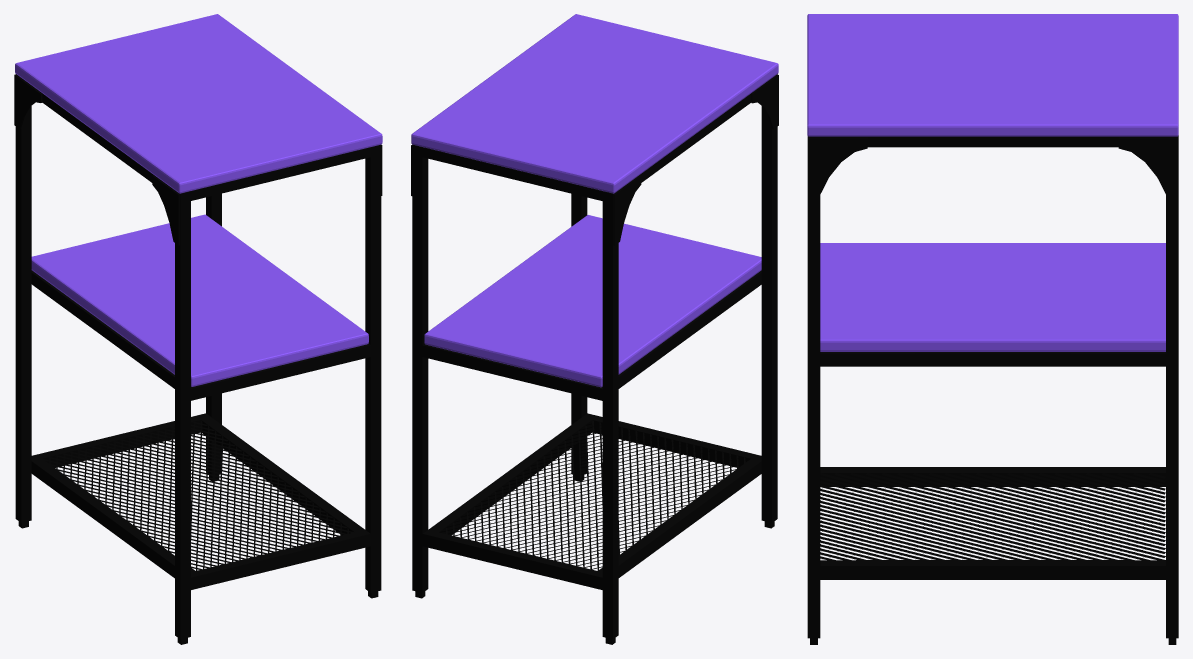
File: shelf.glb
3 renders of one model, left to right at view 1: azimuth 30°, elevation 25°; view 2: azimuth 150°, elevation 25°; view 3: azimuth 270°, elevation 25°, orthographic. The views are drawn at different scales.
Parts seen in each view (by area): view 1: Shelf; view 2: Shelf; view 3: Shelf.
Part boxes in pixels (x1,y1,x2,y2): Shelf: [14, 14, 382, 644]; Shelf: [411, 14, 778, 644]; Shelf: [807, 14, 1178, 644].
Size of the model in its own units: 0.8985 by 1.95 by 1.26.
